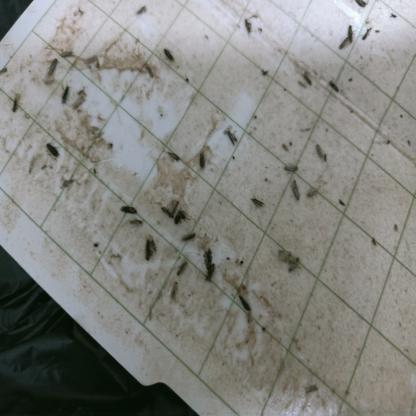prays_oleae: (138, 233, 160, 264), (237, 286, 254, 325), (168, 278, 182, 320), (41, 142, 67, 163), (175, 224, 199, 246), (221, 126, 244, 146), (287, 247, 301, 279), (240, 14, 258, 38), (7, 90, 22, 118), (201, 264, 218, 288), (279, 158, 304, 174), (250, 194, 268, 216), (175, 254, 193, 276), (157, 201, 176, 221), (301, 62, 315, 89), (288, 178, 302, 204), (118, 197, 137, 216), (326, 73, 340, 98), (202, 245, 214, 274), (167, 147, 182, 170), (161, 46, 178, 65), (310, 144, 326, 163), (195, 147, 207, 172), (142, 56, 153, 83), (60, 42, 74, 63), (45, 56, 59, 74), (338, 33, 349, 54), (348, 17, 356, 45), (60, 89, 72, 104), (132, 4, 146, 16)
